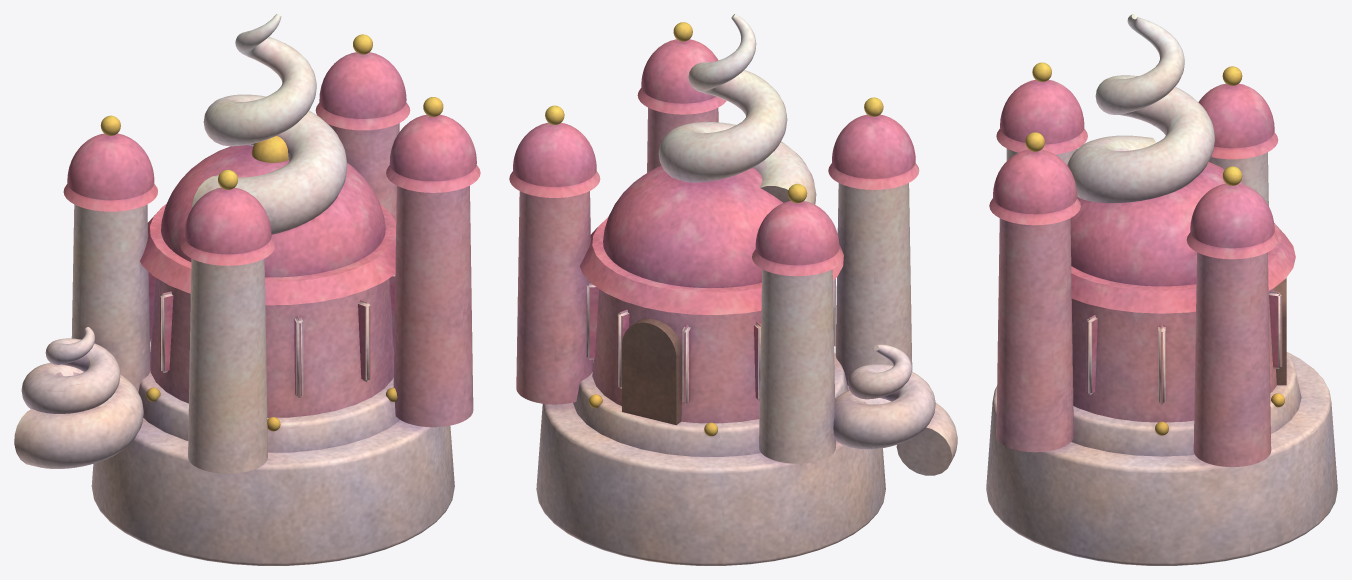
Rendered from WM_ConchPalace.fbx.
The picture shows the model from 3 angles, left to right: view 1: azimuth 30°, elevation 25°; view 2: azimuth 150°, elevation 25°; view 3: azimuth 270°, elevation 25°; orthographic projection. The views are drawn at different scales.
Visible parts, largest first — view 1: WM_ConchPalace_LOD0; view 2: WM_ConchPalace_LOD0; view 3: WM_ConchPalace_LOD0.
Boxes of the visible parts, x1,y1,x2,y2 form: WM_ConchPalace_LOD0: [14, 14, 480, 565]; WM_ConchPalace_LOD0: [509, 14, 957, 565]; WM_ConchPalace_LOD0: [986, 14, 1337, 565].
Size of what is drawn, in the model's own units: 6.69 by 7.43 by 4.99.
